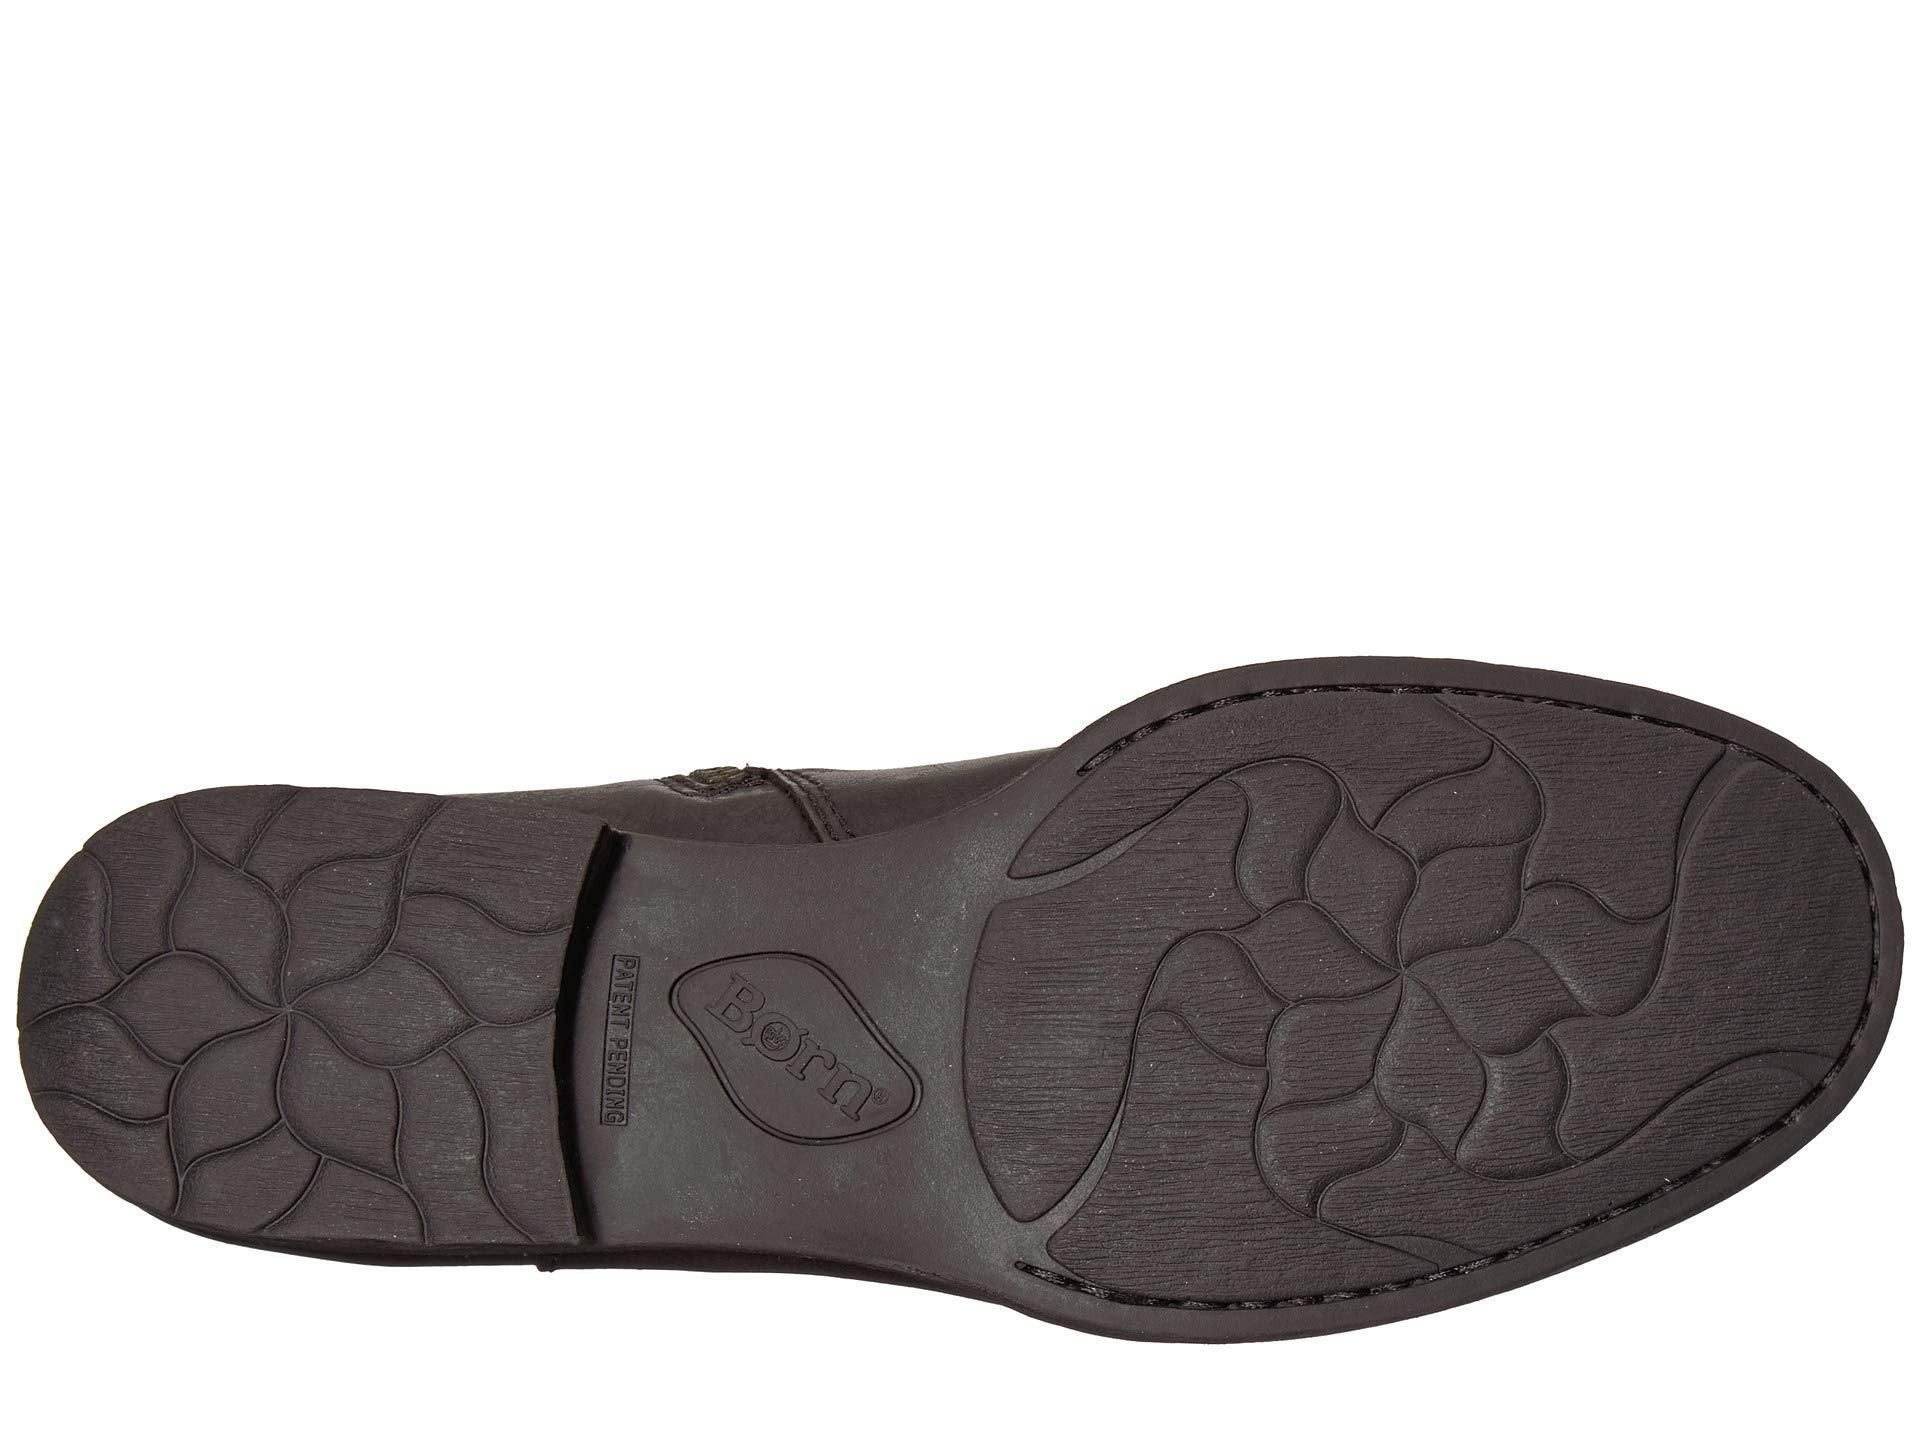star: (1231, 762, 1587, 1168), (119, 833, 487, 1175)
